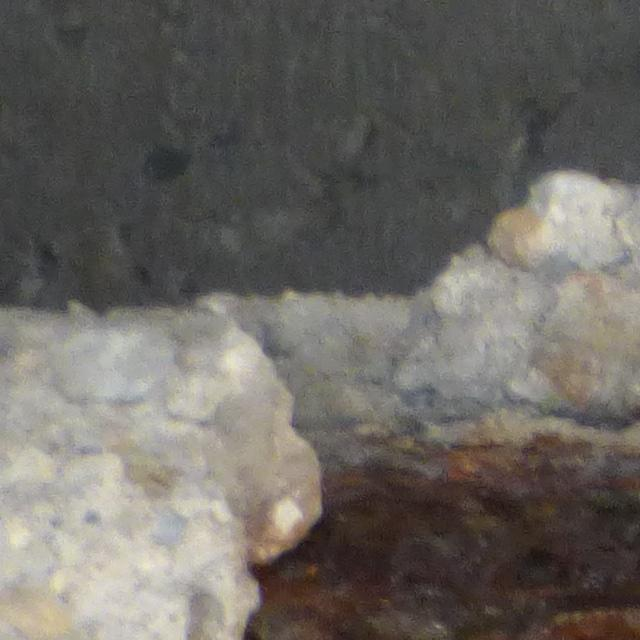Rust: (224, 438, 636, 634)
